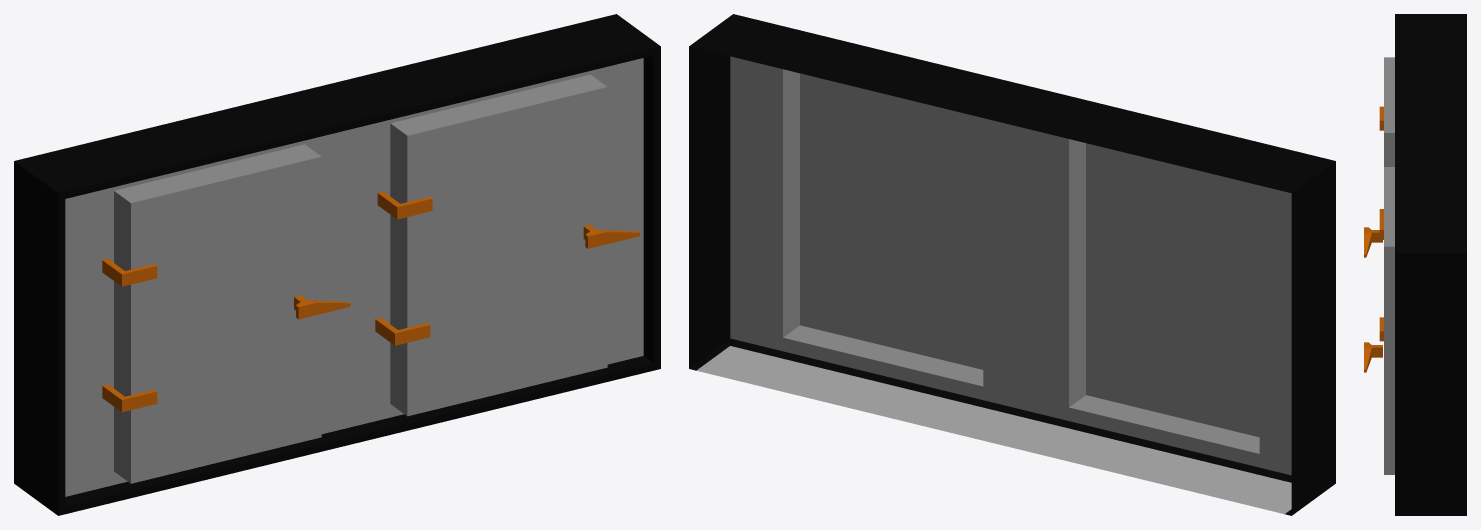
The model's file is MeterBoxCabinet.fbx.
3 renders of one model, left to right at view 1: azimuth 30°, elevation 25°; view 2: azimuth 150°, elevation 25°; view 3: azimuth 270°, elevation 25°, orthographic. The views are drawn at different scales.
Parts seen in each view (by area): view 1: MeterBoxCabinet, Hinge1, Hinge3, Hinge2, Hinge4, Handle2, Handle1; view 2: MeterBoxCabinet; view 3: MeterBoxCabinet, Handle2, Handle1.
Part boxes in pixels (left/top/right/bottom): MeterBoxCabinet: left=14, top=14, right=660, bottom=515; Hinge1: left=102, top=384, right=157, bottom=412; Hinge3: left=377, top=191, right=432, bottom=219; Hinge2: left=102, top=258, right=157, bottom=286; Hinge4: left=375, top=318, right=430, bottom=345; Handle2: left=583, top=224, right=639, bottom=248; Handle1: left=294, top=295, right=350, bottom=319; MeterBoxCabinet: left=689, top=14, right=1335, bottom=515; MeterBoxCabinet: left=1384, top=14, right=1466, bottom=515; Handle2: left=1364, top=342, right=1382, bottom=372; Handle1: left=1364, top=227, right=1382, bottom=257.
Size of the model in its own units: 5.12 by 2.62 by 0.93.
